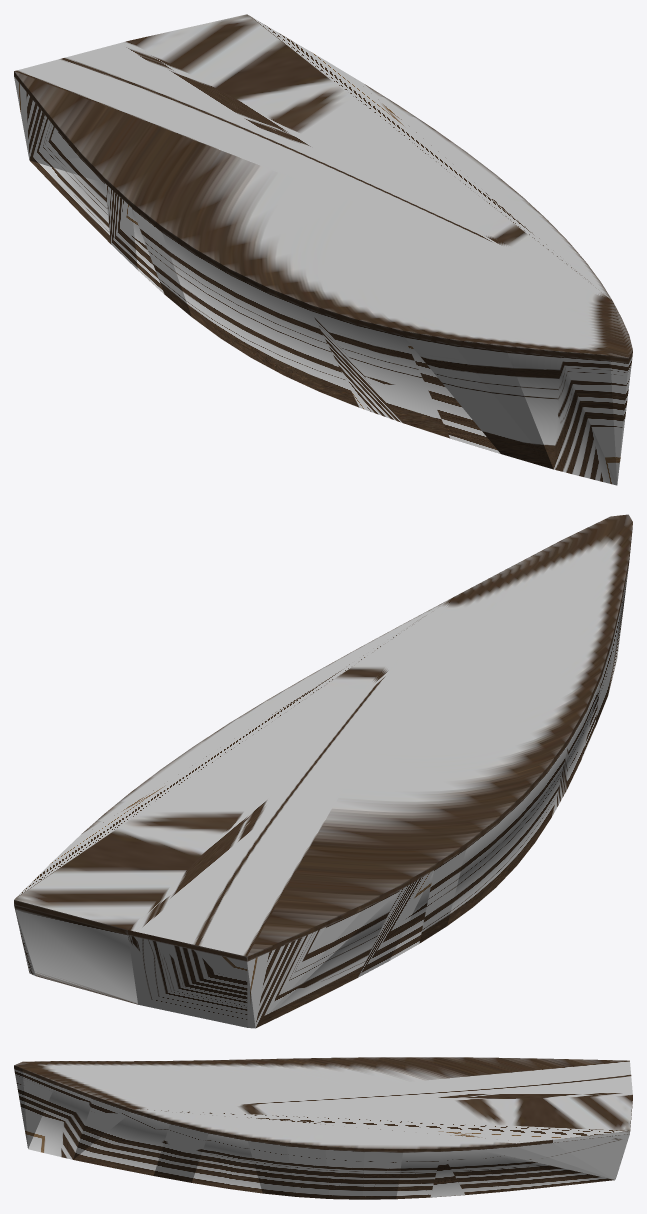
File: rowboat_mask.fbx
3 views of the same model, one above another, from view 1: azimuth 30°, elevation 25°; view 2: azimuth 150°, elevation 25°; view 3: azimuth 270°, elevation 25° (orthographic). The views are drawn at different scales.
Parts seen in each view (by area): view 1: row_boat; view 2: row_boat; view 3: row_boat.
Part boxes in pixels (<box>): row_boat: <box>14,14,632,485</box>; row_boat: <box>14,514,632,1028</box>; row_boat: <box>14,1057,632,1199</box>.
Bounding box in the file's own units: 231 × 114 × 657.
